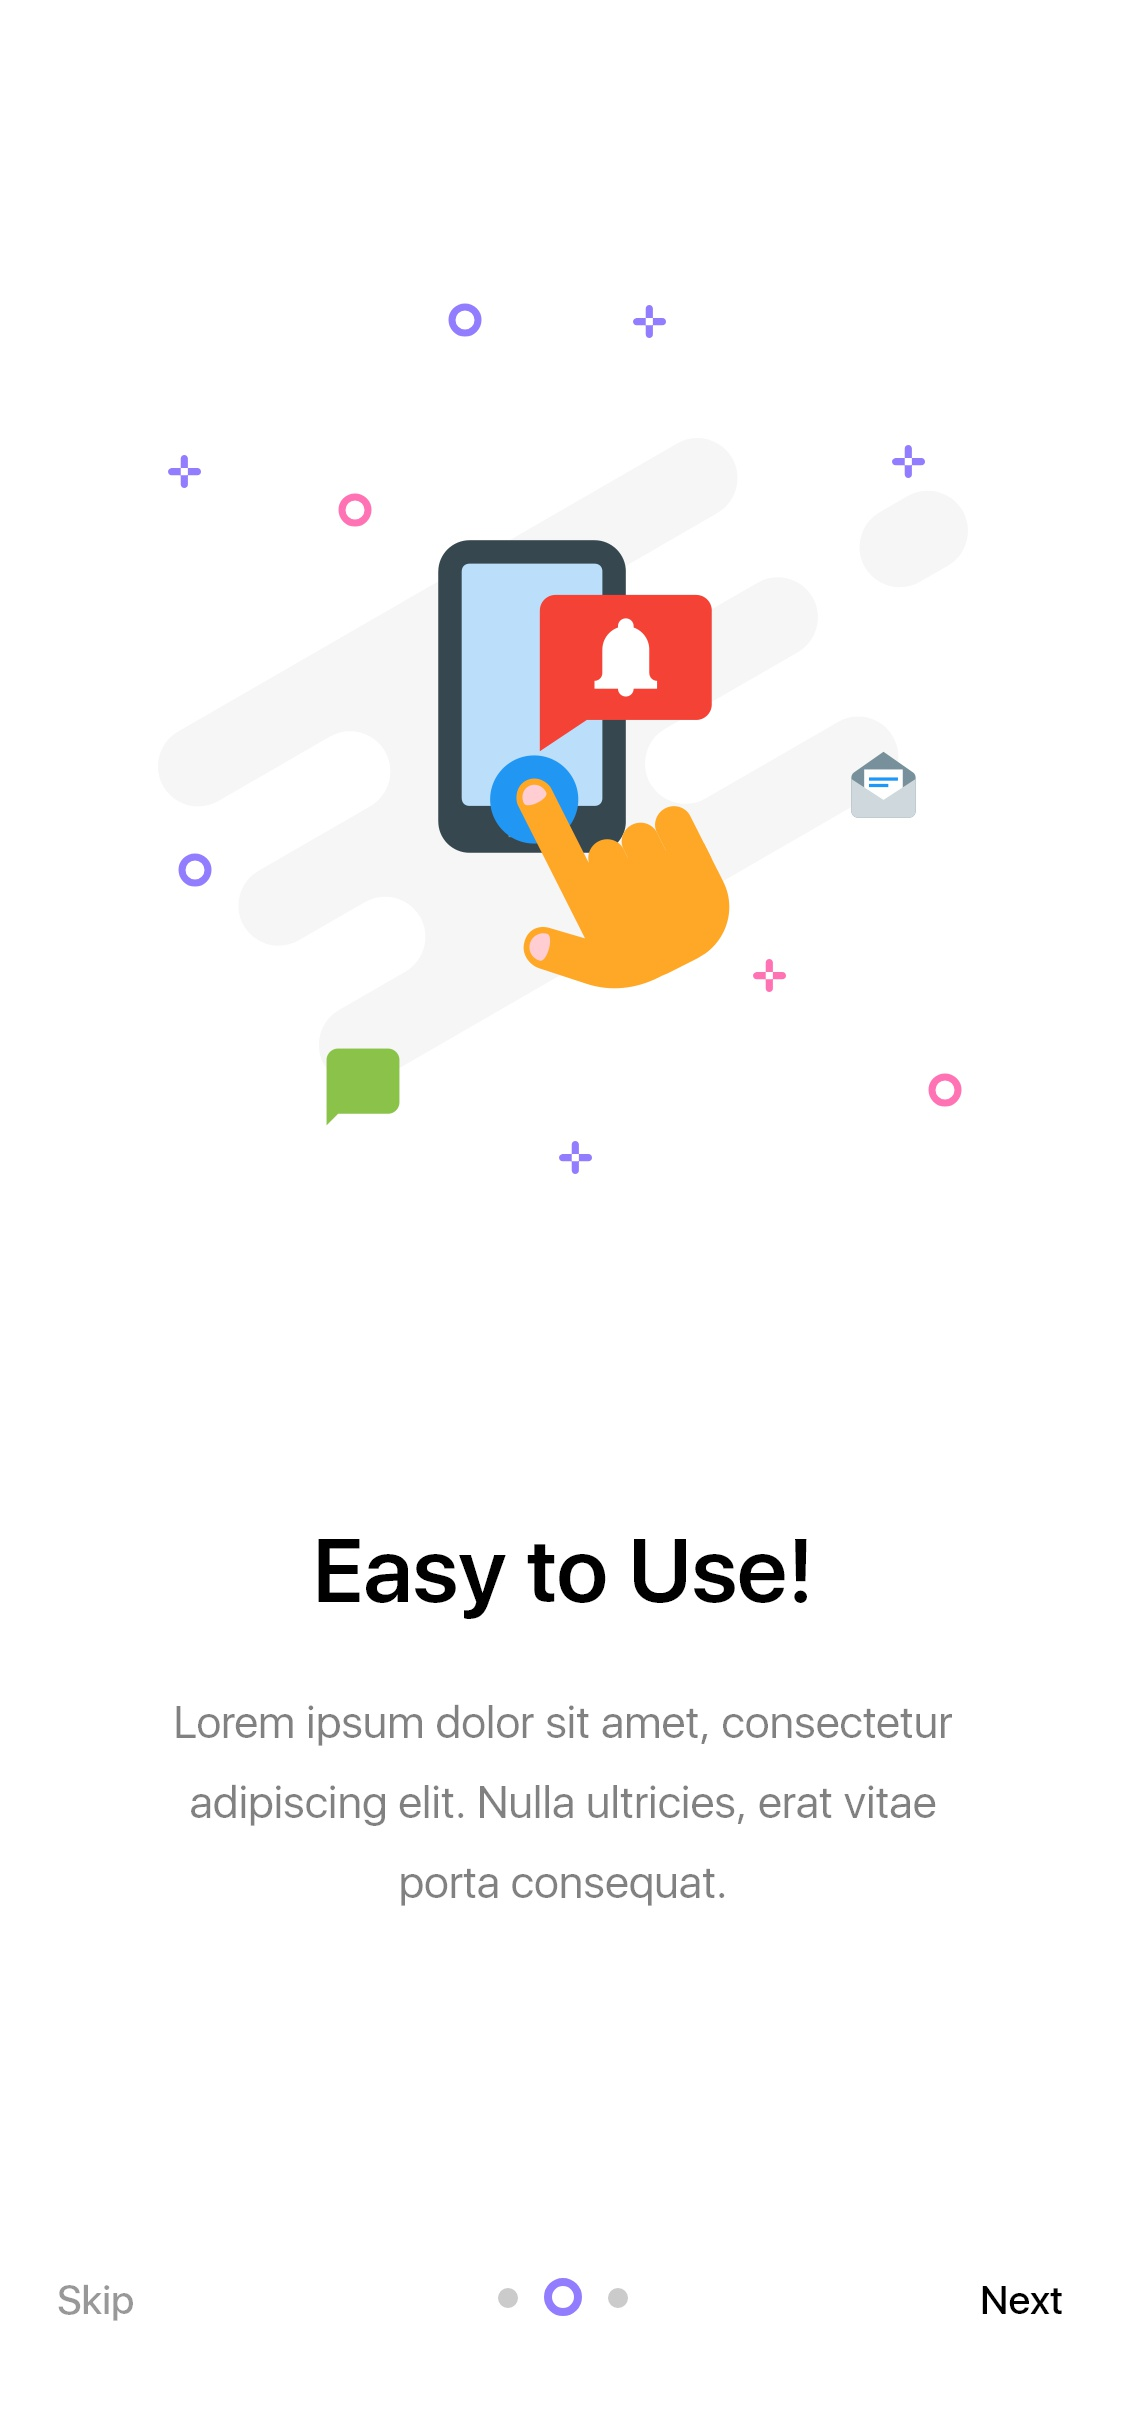Image: (158, 300, 970, 1178)
PageIndicator: (497, 2276, 629, 2316)
Text: (176, 1703, 954, 1908), (317, 1536, 810, 1620), (57, 2282, 137, 2323), (982, 2285, 1063, 2315)
